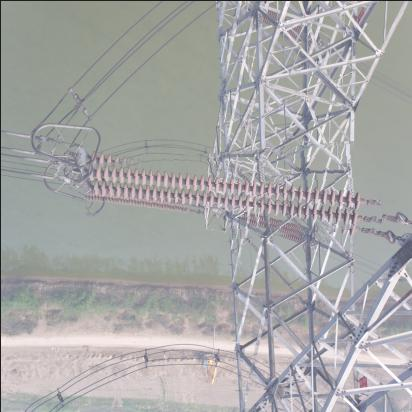insulator: (84, 145, 382, 245)
